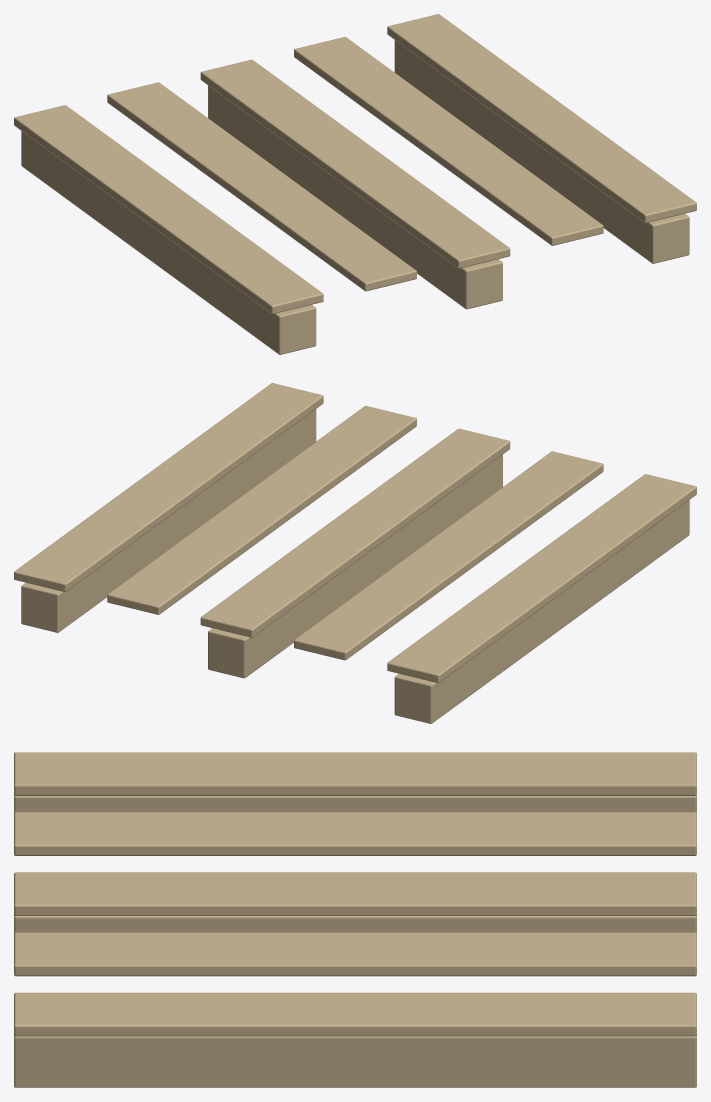
File: pallet.glb
3 renders of one model, top to bottom at view 1: azimuth 30°, elevation 25°; view 2: azimuth 150°, elevation 25°; view 3: azimuth 270°, elevation 25°, orthographic. The views are drawn at different scales.
Visible parts, largest first — view 1: pallet; view 2: pallet; view 3: pallet.
Part boxes in pixels (bbox=[...]): pallet: bbox=[14, 14, 696, 354]; pallet: bbox=[14, 383, 696, 723]; pallet: bbox=[14, 752, 696, 1087].
Size of the model in its own units: 1.14 by 0.131 by 1.2.
